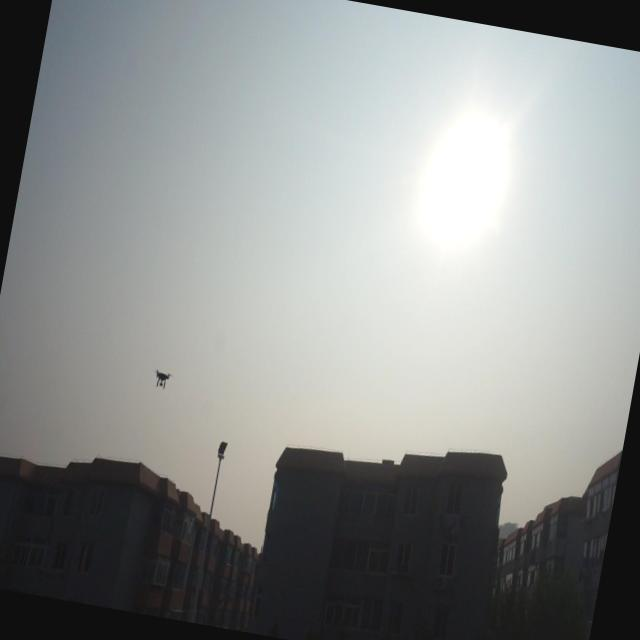drone: (150, 365, 174, 390)
